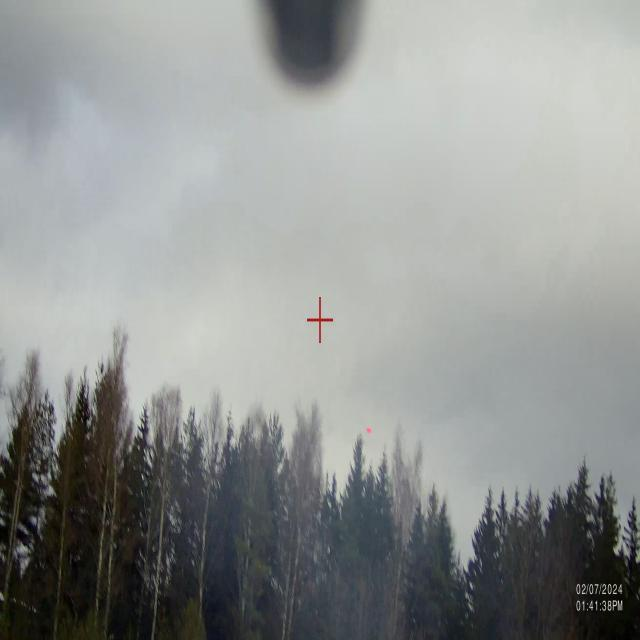entire: (362, 421, 376, 436)
